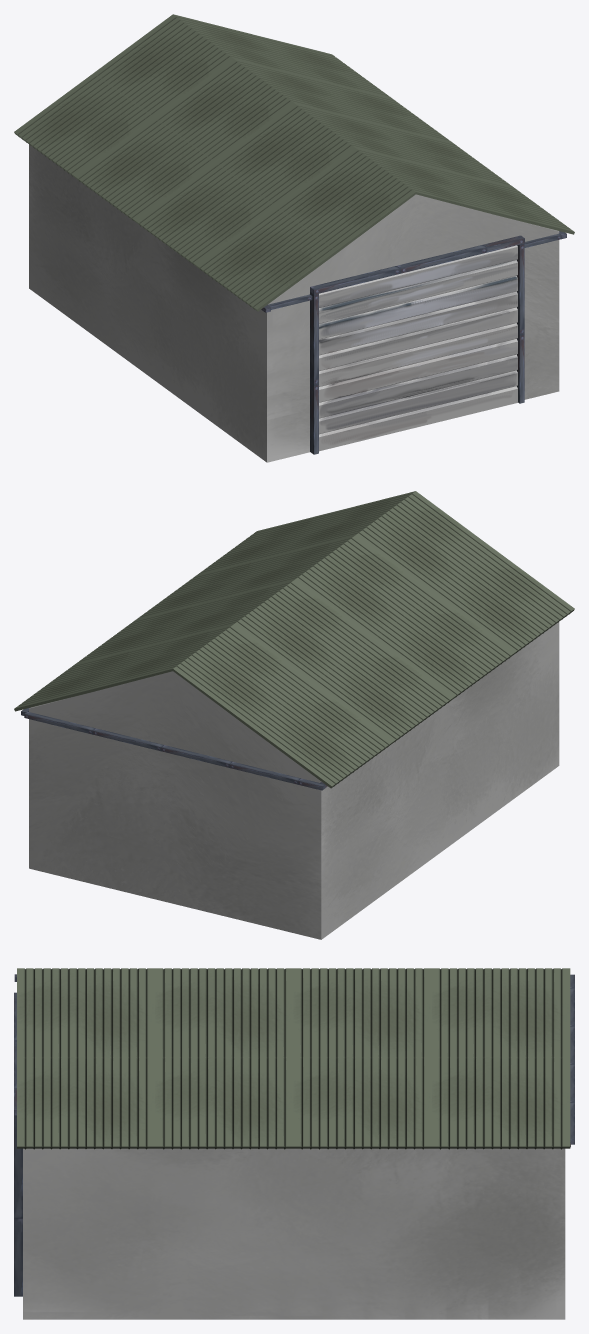
File: Nha 14.fbx
The picture shows the model from 3 angles, top to bottom: view 1: azimuth 30°, elevation 25°; view 2: azimuth 150°, elevation 25°; view 3: azimuth 270°, elevation 25°; orthographic projection. The views are drawn at different scales.
Parts seen in each view (by area): view 1: Plane.024; view 2: Plane.024; view 3: Plane.024.
Part boxes in pixels (x1,y1,x2,y2): Plane.024: [14, 14, 574, 462]; Plane.024: [14, 491, 574, 939]; Plane.024: [14, 968, 574, 1319].
Size of the model in its own units: 1273 by 907 by 1707.
